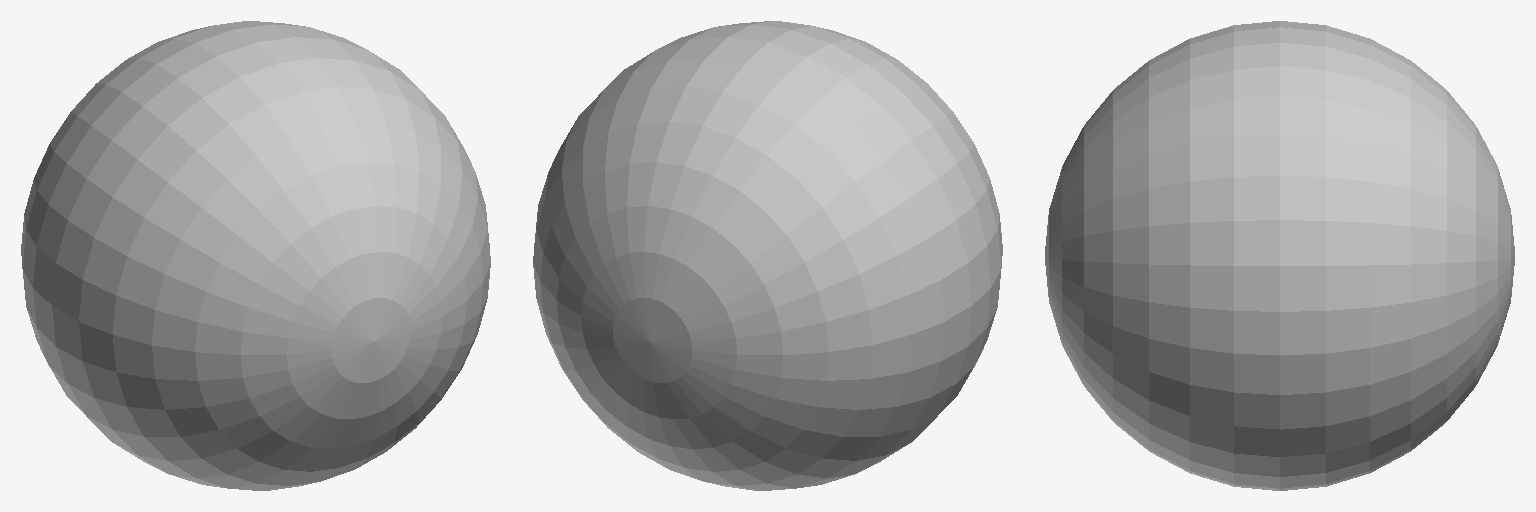
Rendered from simple_sphere.obj.
The picture shows the model from 3 angles: view 1: azimuth 30°, elevation 25°; view 2: azimuth 150°, elevation 25°; view 3: azimuth 270°, elevation 25°; orthographic projection.
Visible parts, largest first — view 1: Sphere; view 2: Sphere; view 3: Sphere.
Boxes of the visible parts, x1,y1,x2,y2 form: Sphere: [21, 21, 490, 490]; Sphere: [533, 21, 1002, 490]; Sphere: [1045, 21, 1514, 490].
Size of the model in its own units: 1 by 1 by 1.